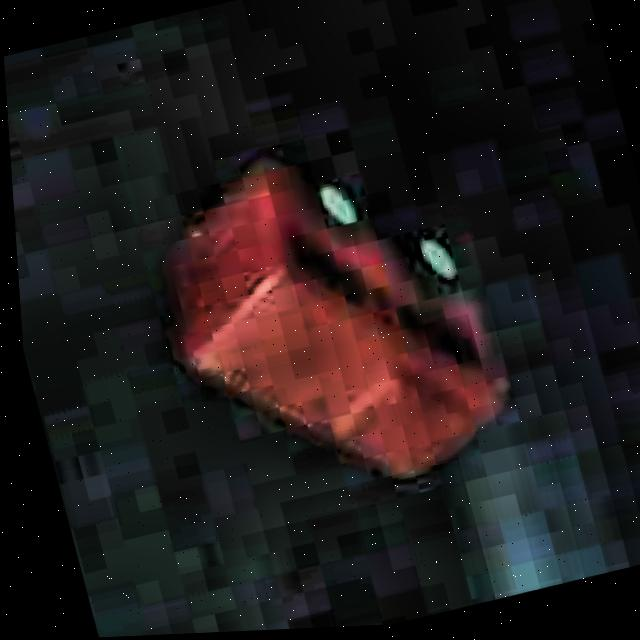bus: (117, 97, 541, 540)
